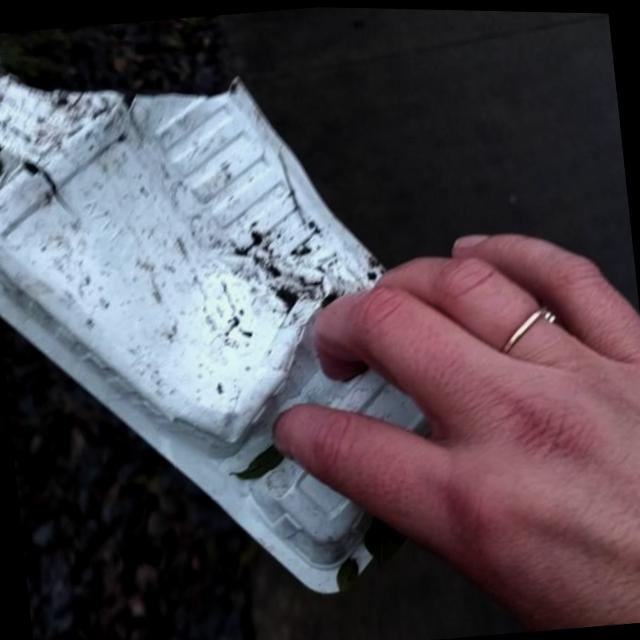Plastic: (0, 6, 459, 628)
